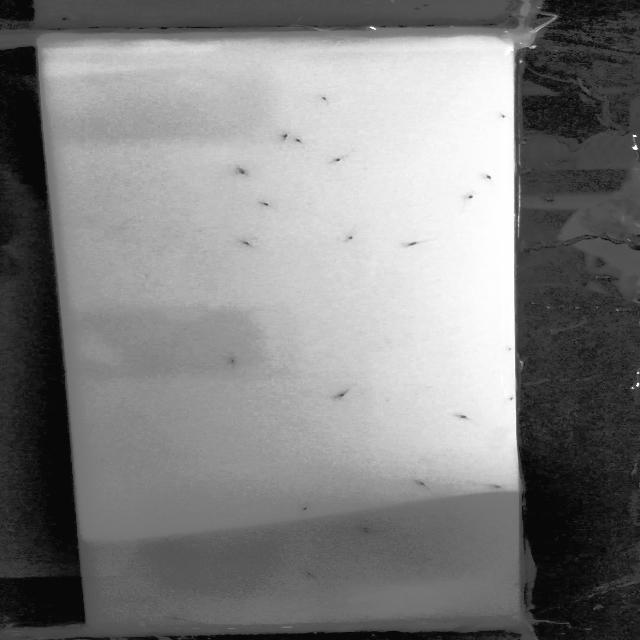shrimp: (330, 384, 361, 402), (409, 477, 441, 493), (451, 194, 478, 209), (324, 153, 357, 165), (453, 406, 472, 423), (334, 233, 356, 247), (400, 238, 426, 249), (290, 137, 314, 147), (296, 501, 322, 510), (224, 358, 246, 368), (475, 172, 493, 184), (232, 167, 252, 177), (296, 570, 318, 579), (319, 95, 339, 104), (281, 128, 290, 146), (258, 201, 276, 209), (354, 524, 377, 530), (486, 485, 507, 491), (360, 528, 380, 534), (175, 613, 189, 620), (494, 114, 508, 120), (239, 240, 255, 245)
